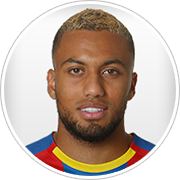face: (43, 47, 139, 123)
